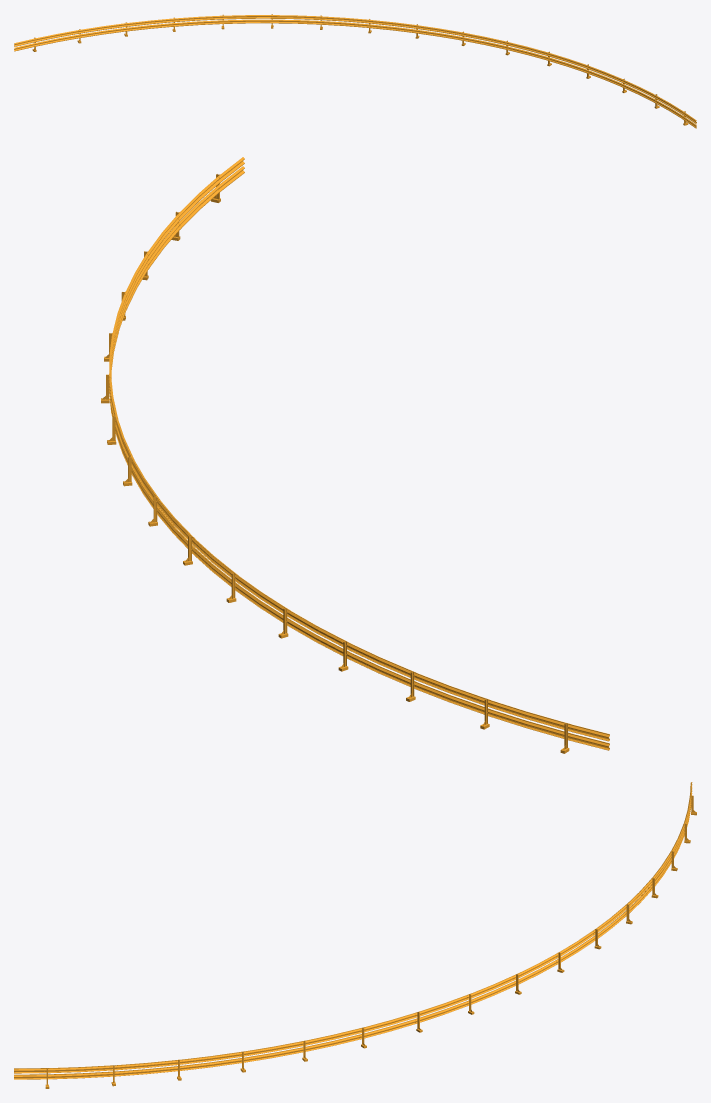
Rendered from SM_Fence_Road_WBeam_Double_Metal_40m_Corner_Inner.fbx.
3 renders of one model, top to bottom at view 1: azimuth 30°, elevation 25°; view 2: azimuth 150°, elevation 25°; view 3: azimuth 270°, elevation 25°, orthographic. The views are drawn at different scales.
Parts seen in each view (by area): view 1: SM_Fence_Road_WBeam_Double_Metal_40m_Corner_Inner; view 2: SM_Fence_Road_WBeam_Double_Metal_40m_Corner_Inner; view 3: SM_Fence_Road_WBeam_Double_Metal_40m_Corner_Inner.
Part boxes in pixels (bbox=[...]): SM_Fence_Road_WBeam_Double_Metal_40m_Corner_Inner: bbox=[14, 14, 696, 128]; SM_Fence_Road_WBeam_Double_Metal_40m_Corner_Inner: bbox=[101, 157, 609, 753]; SM_Fence_Road_WBeam_Double_Metal_40m_Corner_Inner: bbox=[14, 782, 696, 1088].
Bounding box in the file's own units: 39.92 × 1.2 × 39.92.
